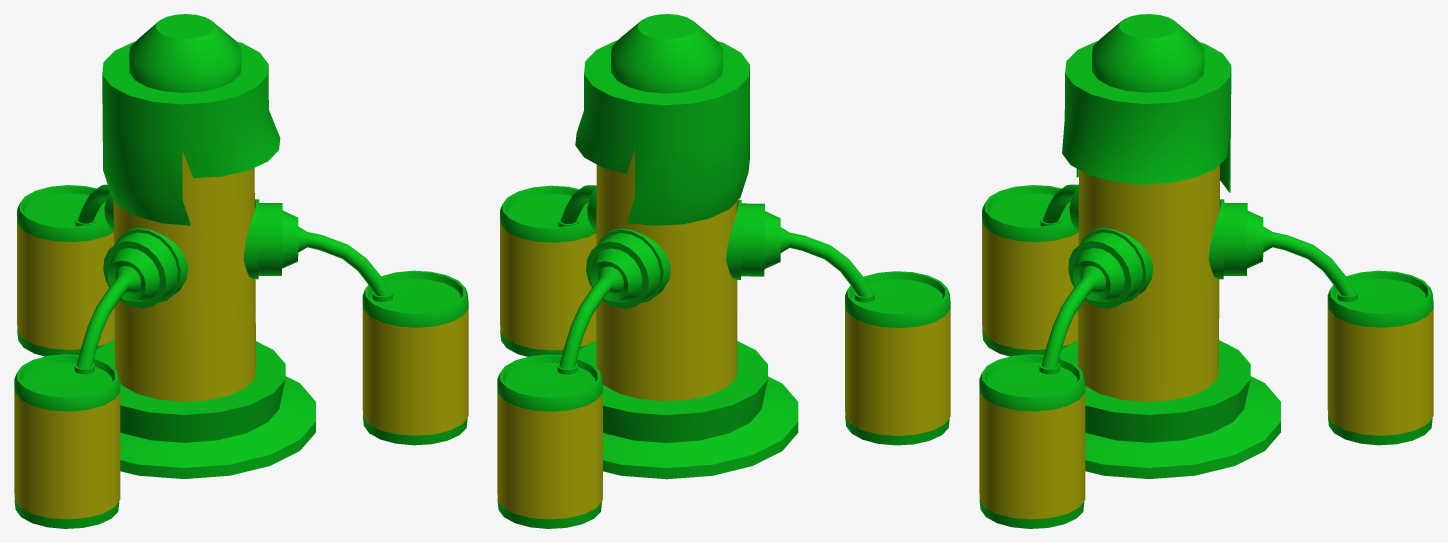
File: crystal_pump_low.FBX
3 renders of one model, left to right at view 1: azimuth 30°, elevation 25°; view 2: azimuth 150°, elevation 25°; view 3: azimuth 270°, elevation 25°, orthographic.
Parts seen in each view (by area): view 1: metal_low, glass_low, tubes_low; view 2: metal_low, glass_low, tubes_low; view 3: metal_low, glass_low, tubes_low.
Part boxes in pixels (box(x1,y1,x2,y2)): metal_low: box(14, 14, 468, 528); glass_low: box(14, 151, 468, 519); tubes_low: box(76, 184, 390, 368); metal_low: box(497, 14, 950, 528); glass_low: box(497, 149, 950, 519); tubes_low: box(559, 185, 872, 368); metal_low: box(979, 14, 1433, 528); glass_low: box(979, 164, 1433, 519); tubes_low: box(1041, 184, 1355, 368).
Bounding box in the file's own units: 101 × 87.38 × 90.63.
